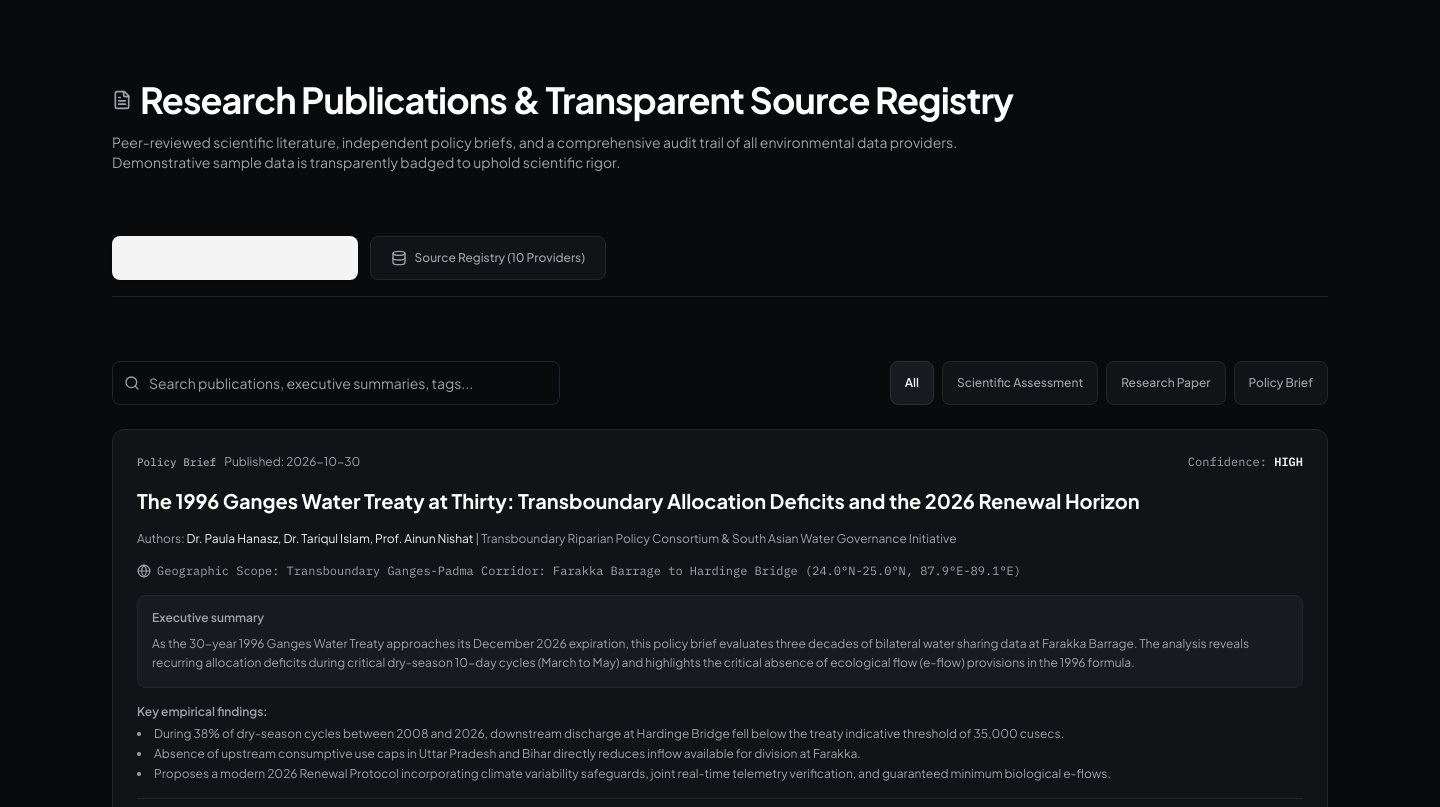
Tier 3: Compound Search & Filtering Synchronization › synchronizes category pill selection with keyword text search in Research Hub
Note: Filter to category "Scientific Assessment"
Click the button "Scientific Assessment". click: (1020, 383)
box: top-left (942, 361), bottom-right (1098, 405)
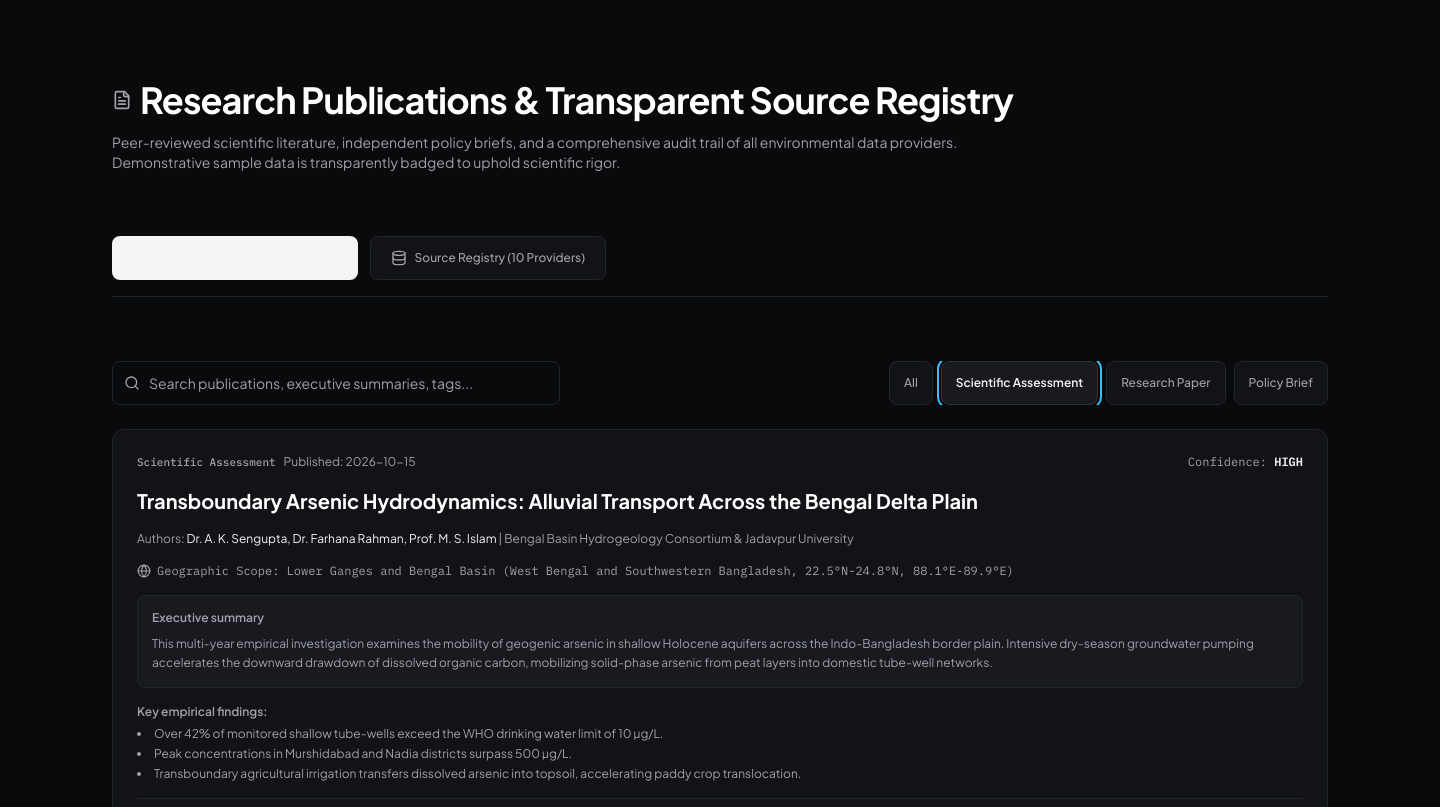
Note: Search for "alluvial" - should match Sengupta Arsenic paper
Type "alluvial" into the field with placeholder "Search publications, executive summaries, tags...". click: (336, 383)
box: top-left (112, 361), bottom-right (560, 405)
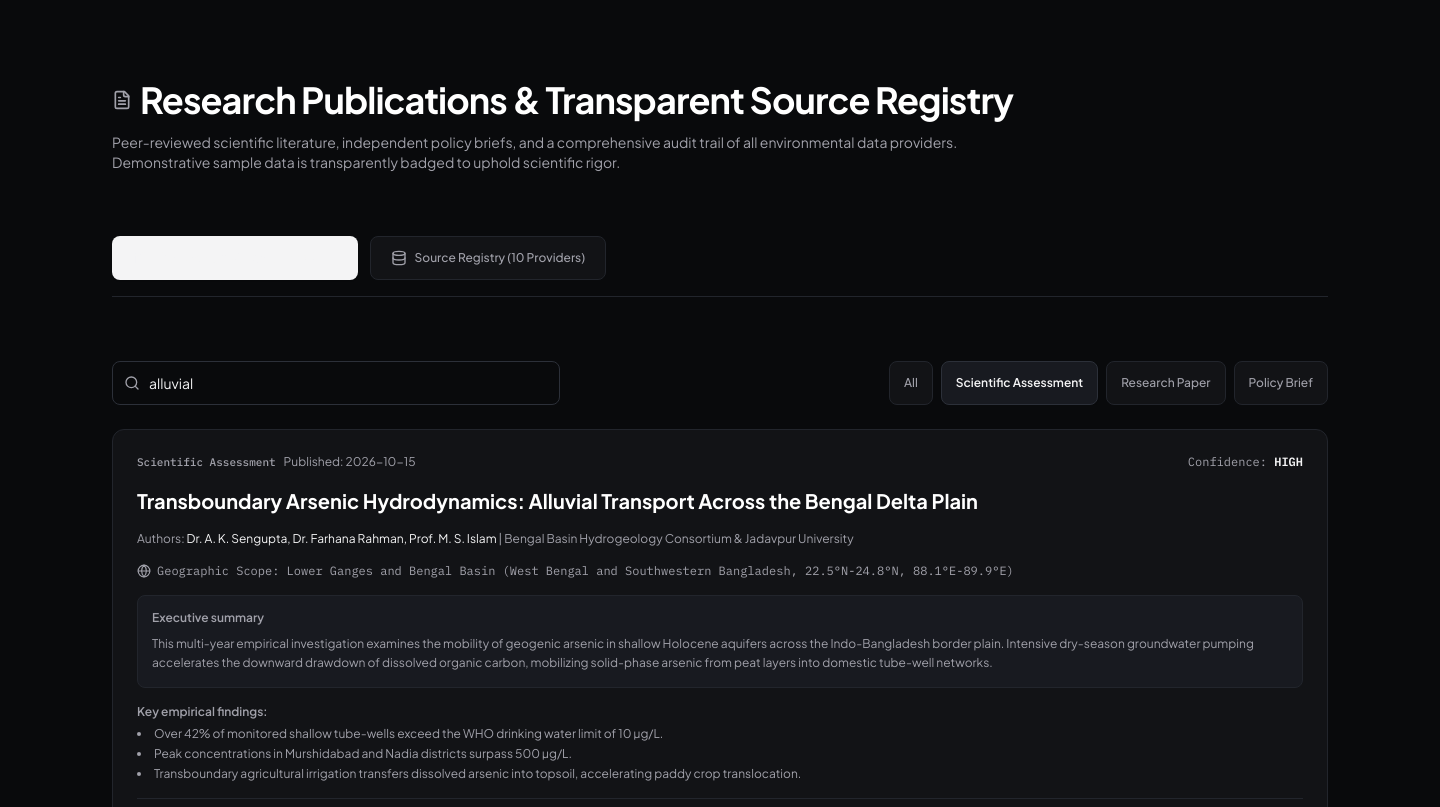
Expected: the heading "Transboundary Arsenic Hydrodynamics" is shown, top-left (137, 488), bottom-right (978, 512)
Expected: the text "Industrial Anoxia in the Buriganga River" is not shown
Replace the text in the field with placeholder "Search publications, executive summaries, tags..." with "Chromium". click: (336, 383)
box: top-left (112, 361), bottom-right (560, 405)
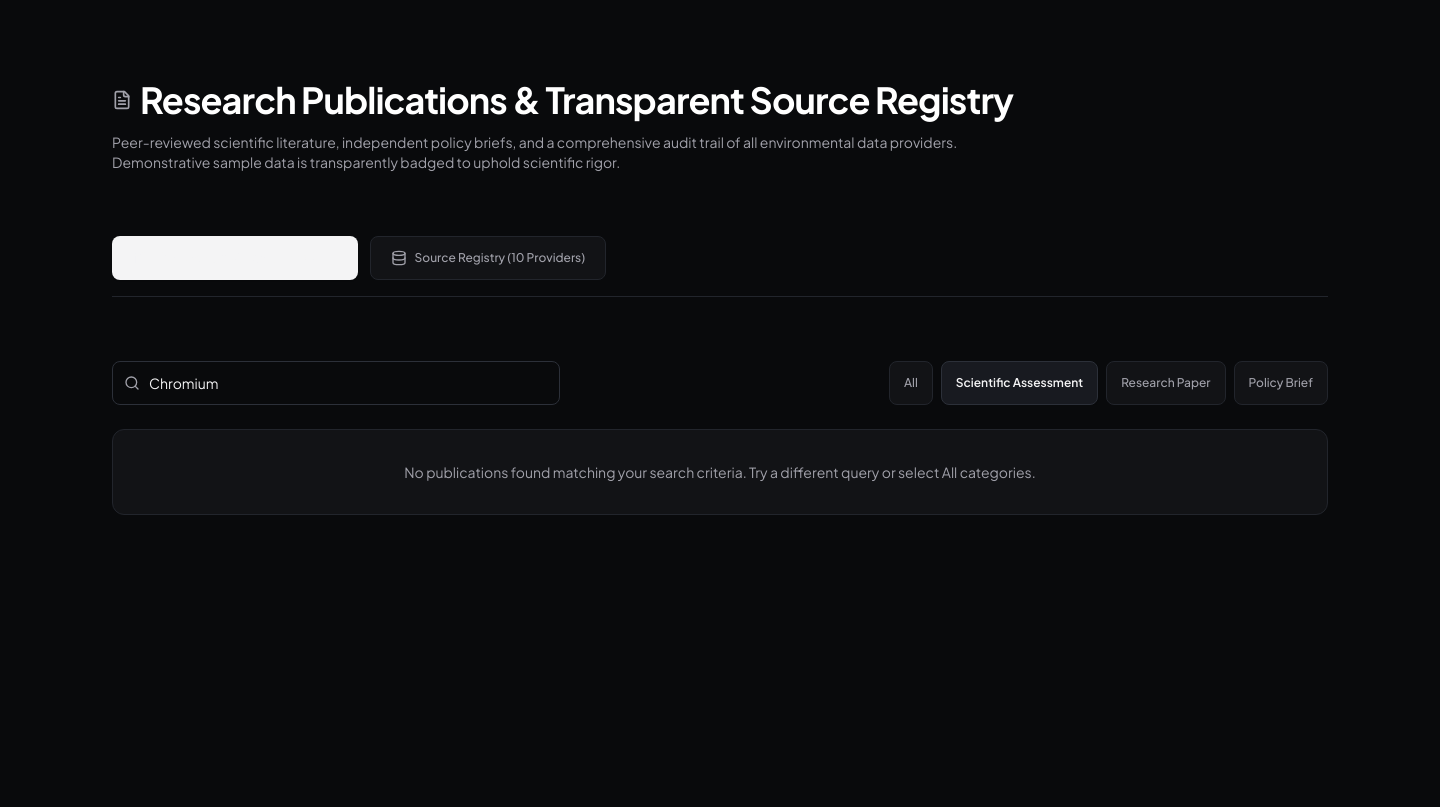
Expected: the text "Industrial Anoxia in the Buriganga River" is not shown
Result: the heading "Transboundary Arsenic Hydrodynamics" is gone
Note: Now switch category to "Research Paper" with "Chromium" still in search
Click the button "Research Paper". click: (1166, 383)
box: top-left (1106, 361), bottom-right (1226, 405)
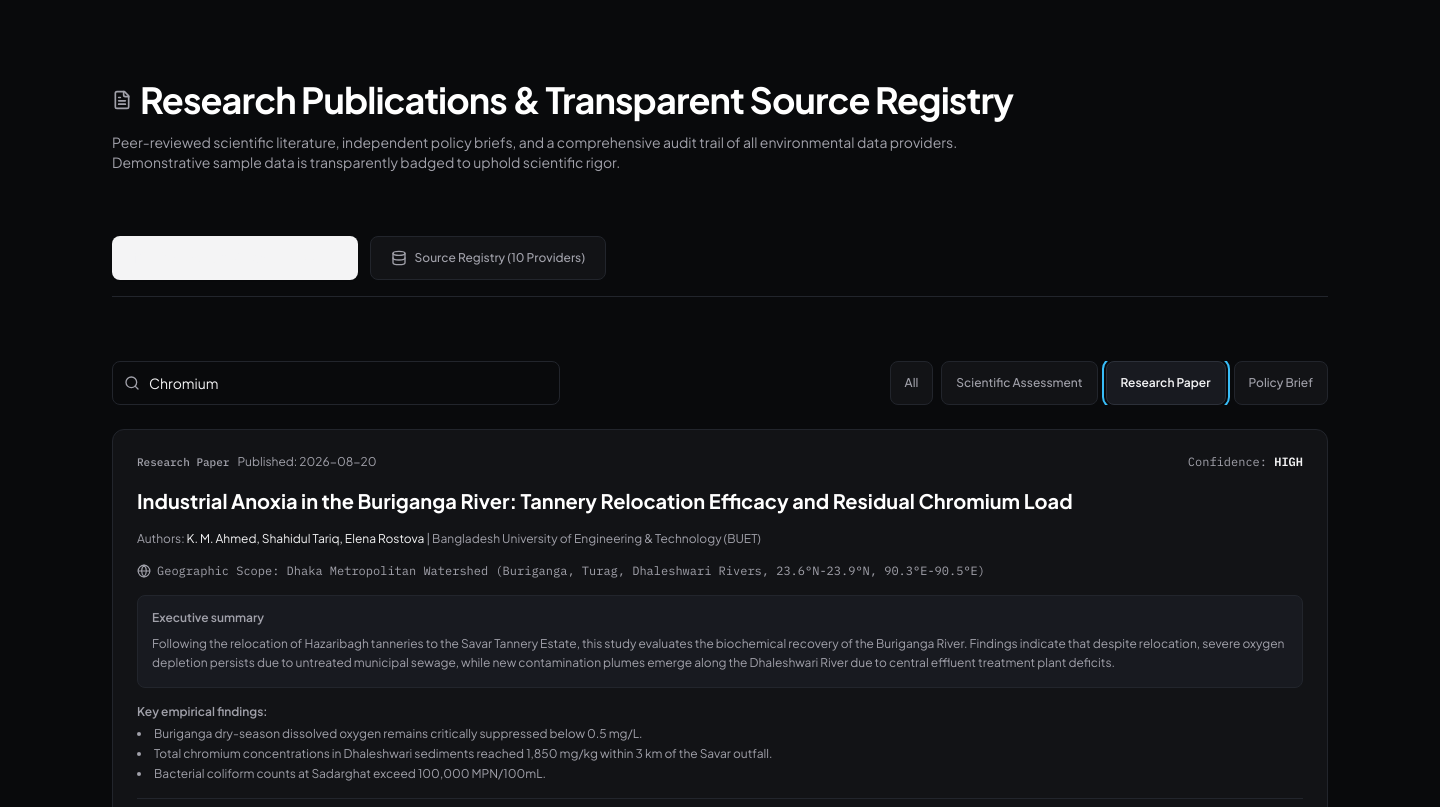
Result: the heading "Industrial Anoxia in the Buriganga River" is shown at top-left (137, 488), bottom-right (1073, 512)
